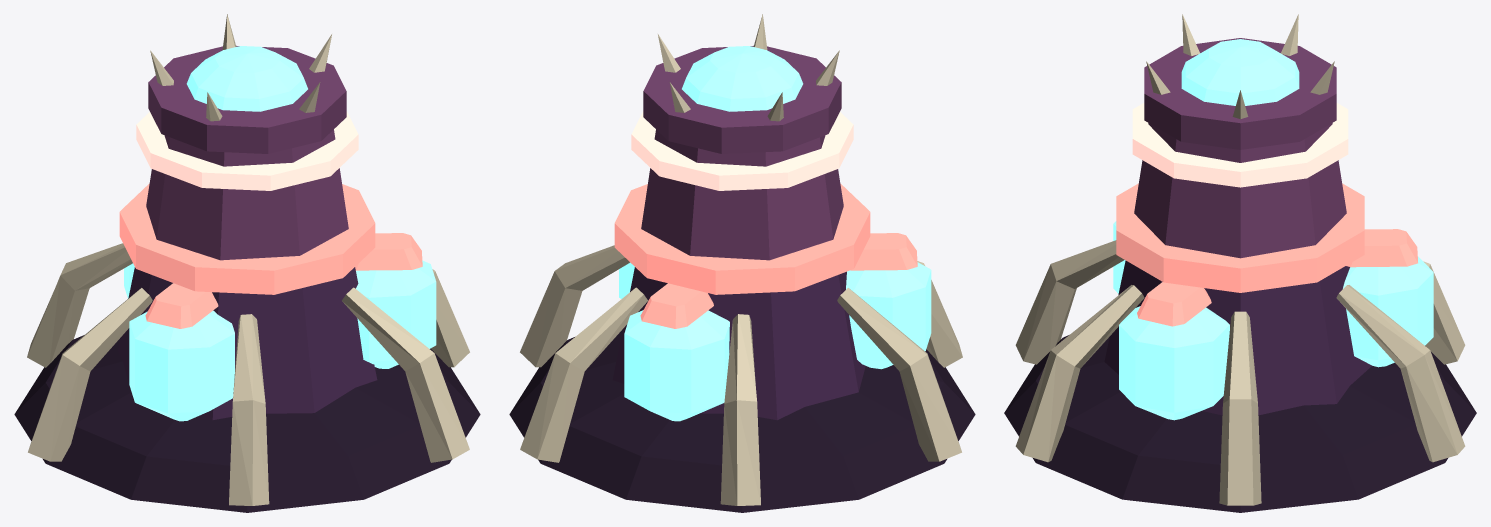
The model's file is spore_tap.glb.
3 views of the same model, side by side, from view 1: azimuth 30°, elevation 25°; view 2: azimuth 150°, elevation 25°; view 3: azimuth 270°, elevation 25° (orthographic).
Parts seen in each view (by area): view 1: Surf_dark, Surf_bone, Surf_warm, Surf_gas, Surf_TEAM, Surf_chit, Surf_GLOW; view 2: Surf_dark, Surf_bone, Surf_warm, Surf_gas, Surf_TEAM, Surf_chit, Surf_GLOW; view 3: Surf_dark, Surf_bone, Surf_warm, Surf_gas, Surf_TEAM, Surf_chit, Surf_GLOW.
Boxes of the visible parts, x1,y1,x2,y2 form: Surf_dark: (14,335,480,512); Surf_bone: (27,14,469,505); Surf_warm: (146,45,348,260); Surf_gas: (124,46,436,421); Surf_TEAM: (119,183,422,328); Surf_chit: (117,267,377,420); Surf_GLOW: (136,111,358,190); Surf_dark: (509,329,975,512); Surf_bone: (520,14,962,505); Surf_warm: (641,45,843,260); Surf_gas: (619,46,931,421); Surf_TEAM: (614,183,917,328); Surf_chit: (612,267,865,420); Surf_GLOW: (631,111,853,190); Surf_dark: (1004,335,1476,512); Surf_bone: (1015,14,1465,505); Surf_warm: (1134,38,1346,258); Surf_gas: (1113,39,1433,420); Surf_TEAM: (1116,183,1417,326); Surf_chit: (1104,260,1371,415); Surf_GLOW: (1132,103,1348,187).
Bounding box in the file's own units: 4.15 × 3.28 × 3.84.
